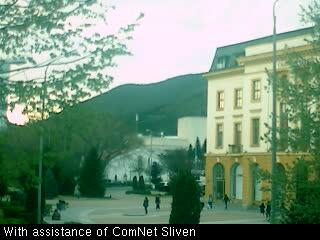person: (154, 194, 162, 211), (142, 196, 149, 215), (223, 192, 230, 209), (199, 193, 206, 210), (259, 202, 266, 218), (265, 203, 271, 217), (207, 194, 213, 208)
